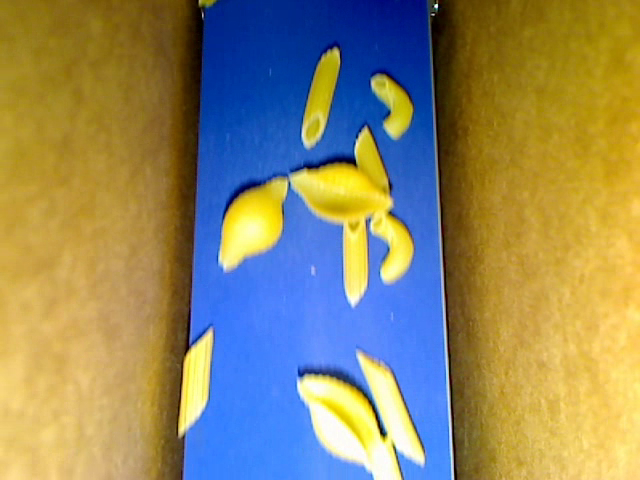elbow: (369, 210, 413, 284), (371, 75, 412, 139)
penne: (357, 350, 425, 464), (177, 324, 213, 438), (301, 48, 341, 149), (354, 126, 389, 195), (344, 211, 368, 310), (369, 433, 402, 479)
shell: (297, 373, 384, 471), (216, 174, 289, 271), (288, 163, 393, 223)
